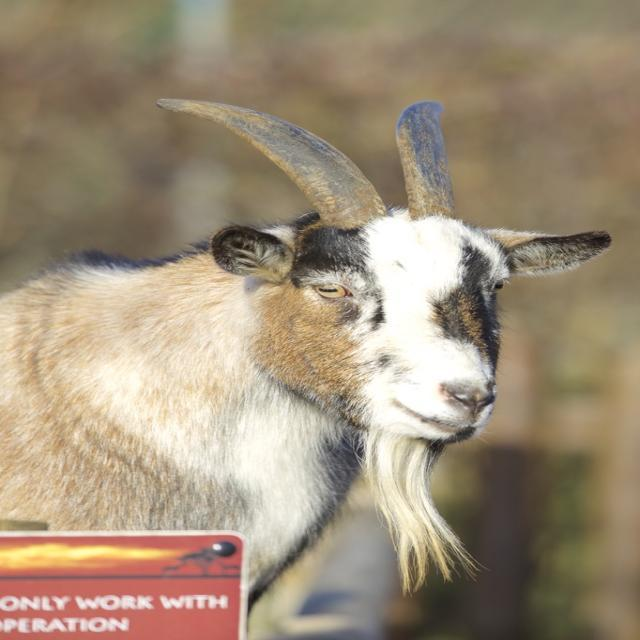Goat: (0, 96, 612, 634)
